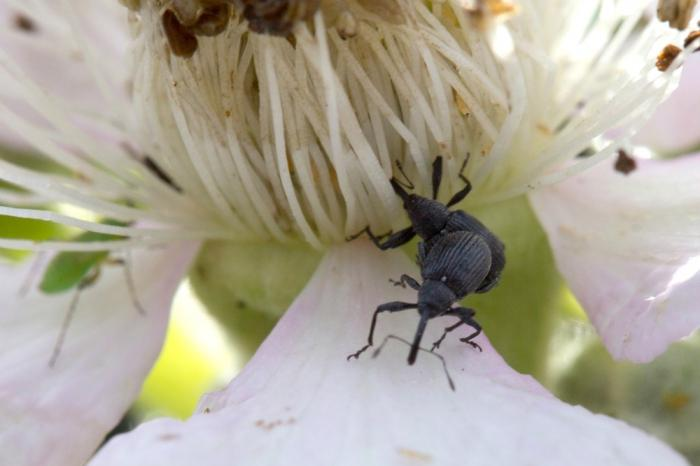dolgonosik: (343, 233, 496, 386), (345, 154, 505, 293)
